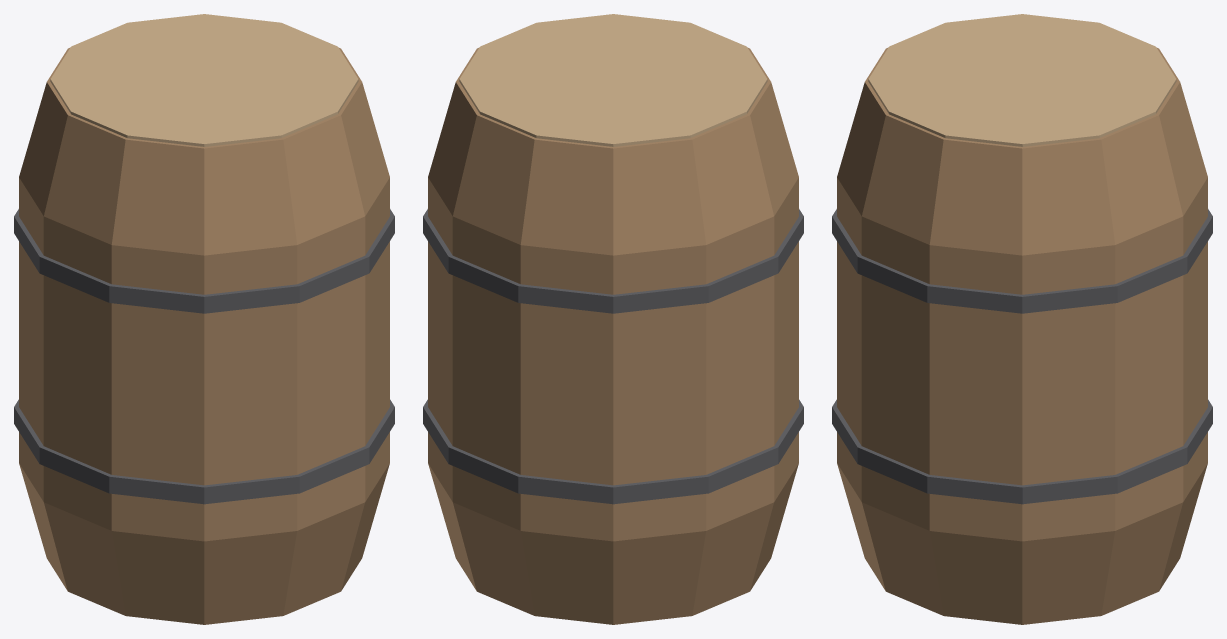
File: SM_Barrel.glb
3 views of the same model, side by side, from view 1: azimuth 30°, elevation 25°; view 2: azimuth 150°, elevation 25°; view 3: azimuth 270°, elevation 25° (orthographic).
Visible parts, largest first — view 1: SM_Barrel; view 2: SM_Barrel; view 3: SM_Barrel.
Boxes of the visible parts, box(x1,y1,x2,y2) form: SM_Barrel: box(14, 14, 394, 624); SM_Barrel: box(423, 14, 803, 624); SM_Barrel: box(832, 14, 1212, 624).
Bounding box in the file's own units: 0.616 × 0.855 × 0.616.
